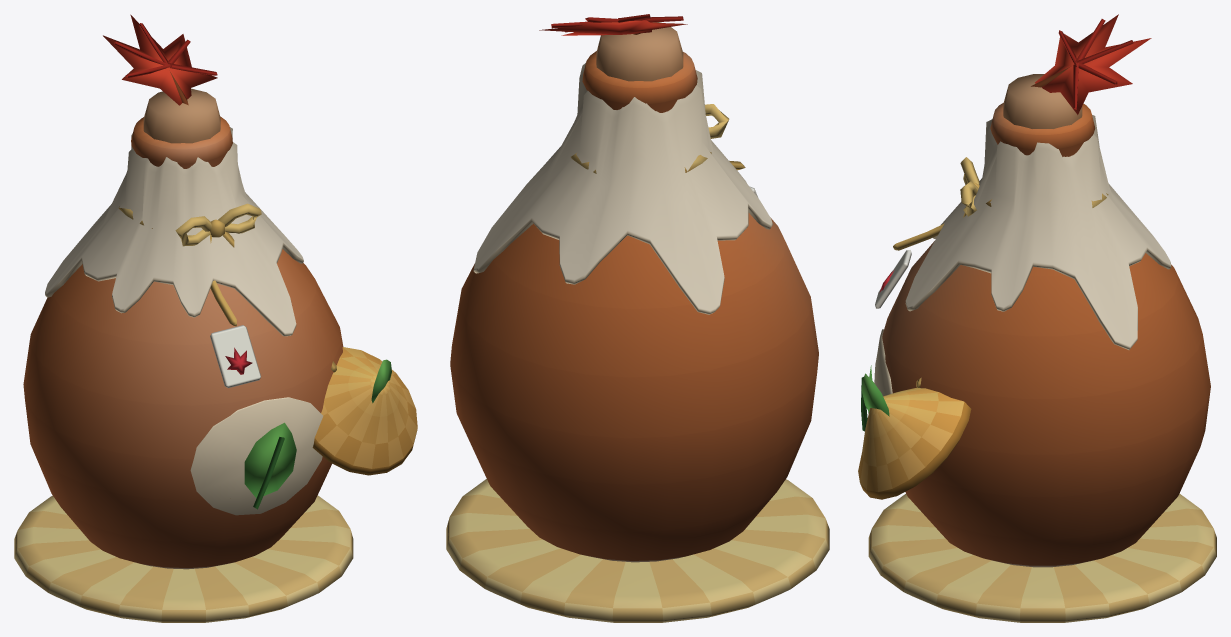
Rendered from furn-trophyLeafJar.glb.
3 renders of one model, left to right at view 1: azimuth 30°, elevation 25°; view 2: azimuth 150°, elevation 25°; view 3: azimuth 270°, elevation 25°, orthographic. The views are drawn at different scales.
Parts seen in each view (by area): view 1: furn-trophyLeafJar; view 2: furn-trophyLeafJar; view 3: furn-trophyLeafJar.
Boxes of the visible parts, <box> form: furn-trophyLeafJar: <box>14,14,417,622</box>; furn-trophyLeafJar: <box>446,14,829,622</box>; furn-trophyLeafJar: <box>858,14,1216,622</box>.
Bounding box in the file's own units: 0.4567 × 0.6966 × 0.4373.
